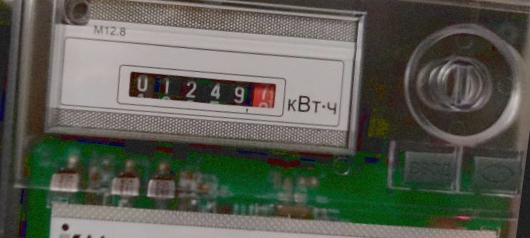0: (134, 72, 149, 93)
1: (159, 75, 171, 95)
2: (183, 78, 198, 100)
4: (208, 80, 221, 101)
7: (256, 82, 270, 102)
9: (230, 83, 246, 106)
screen: (107, 56, 286, 123)
